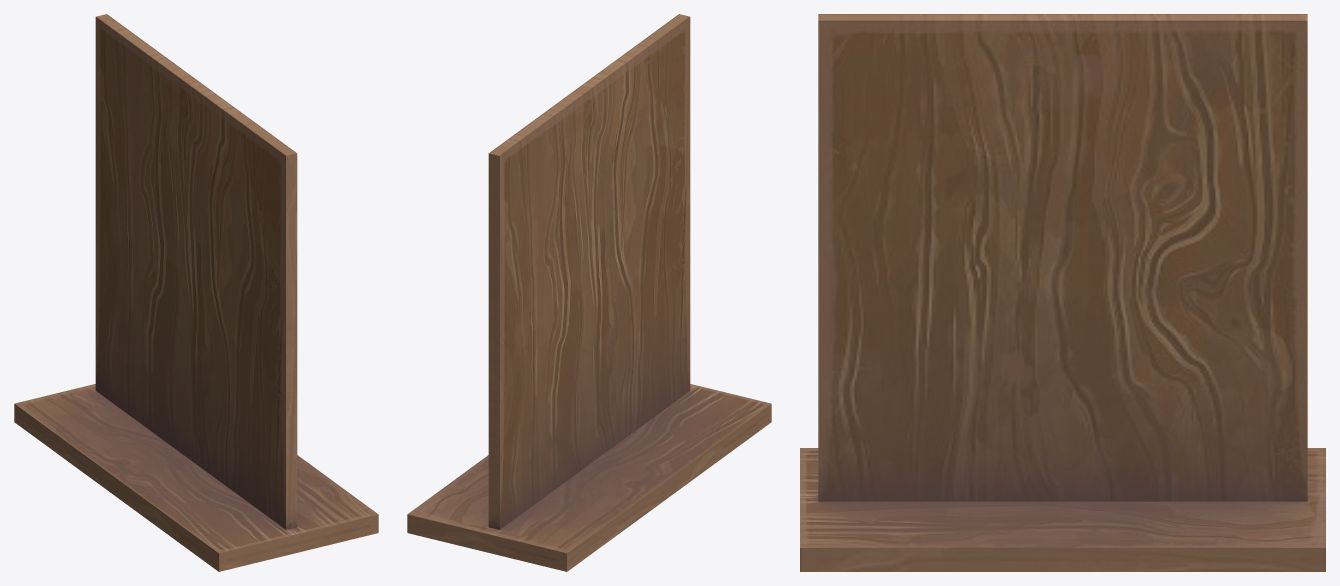
File: masa numara.fbx
The picture shows the model from 3 angles, left to right: view 1: azimuth 30°, elevation 25°; view 2: azimuth 150°, elevation 25°; view 3: azimuth 270°, elevation 25°; orthographic projection. The views are drawn at different scales.
Visible parts, largest first — view 1: masa numaras; view 2: masa numaras; view 3: masa numaras.
Boxes of the visible parts, x1=… form: masa numaras: x1=14, y1=14, x2=378, y2=571; masa numaras: x1=407, y1=14, x2=771, y2=571; masa numaras: x1=800, y1=14, x2=1325, y2=571.
Size of the model in its own units: 13.16 by 30.91 by 29.19.
